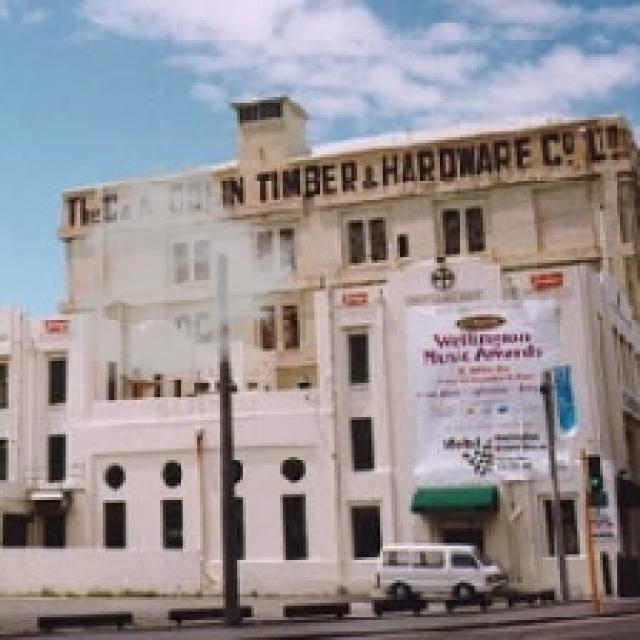smoke: (57, 157, 314, 386)
